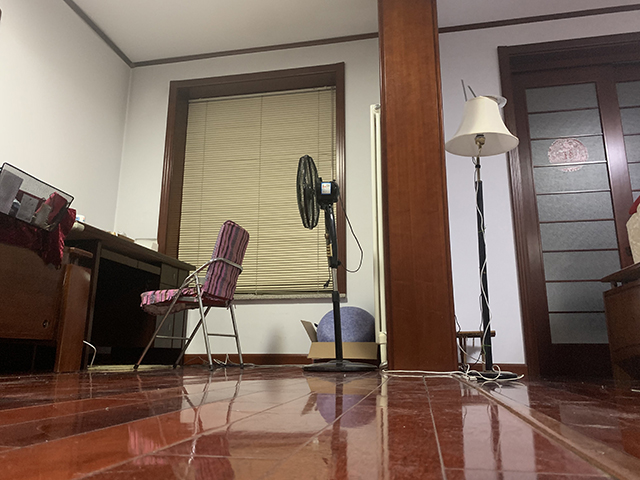bed: (1, 161, 94, 380)
carpet: (87, 363, 181, 372)
stool: (132, 218, 251, 371), (455, 330, 497, 372)
table: (65, 220, 199, 366)
wire: (376, 157, 525, 384), (183, 353, 260, 370), (84, 340, 99, 368)
